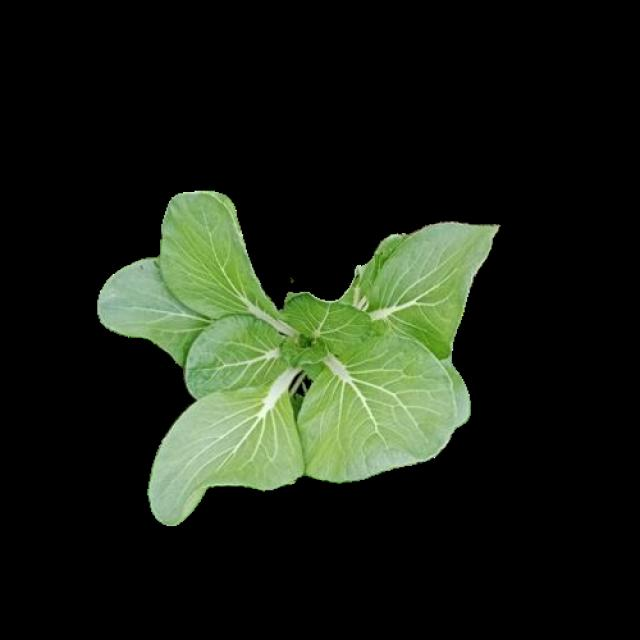healthy: (99, 212, 496, 538)
not-mature: (100, 197, 497, 521)
